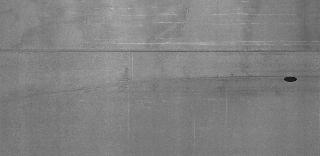punching hole: (282, 74, 302, 84)
welding line: (1, 44, 320, 58)
